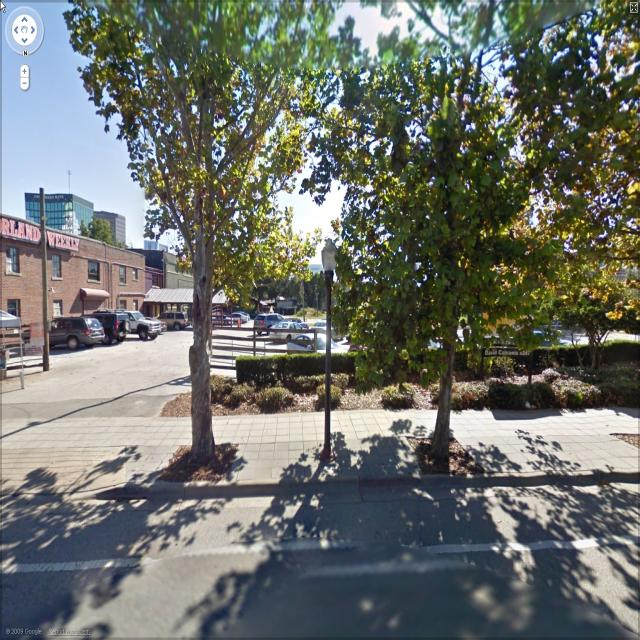b_1: (1, 222, 173, 322), (25, 187, 133, 245)
b_2: (153, 243, 254, 335), (142, 222, 176, 264)
